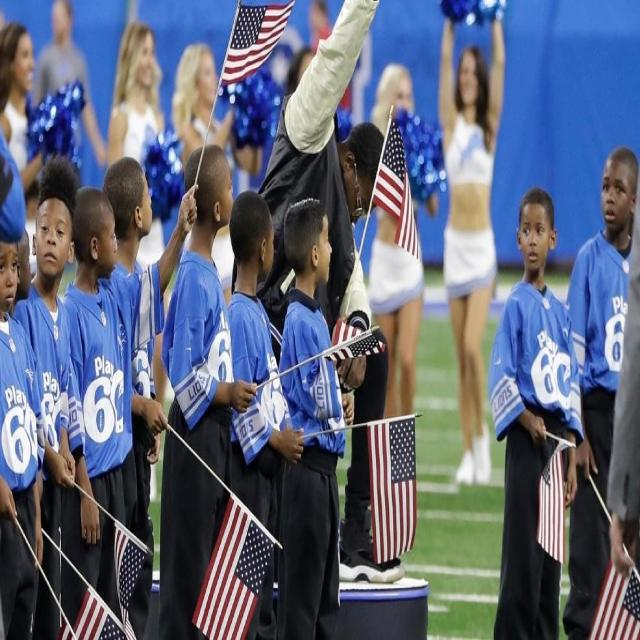body: (229, 0, 406, 588), (59, 182, 208, 639), (154, 137, 264, 639), (489, 181, 584, 639), (432, 0, 512, 490), (562, 142, 640, 640), (226, 189, 308, 639), (273, 195, 348, 639), (102, 156, 170, 640), (19, 146, 78, 640), (170, 41, 264, 306), (369, 60, 438, 421), (0, 215, 42, 640), (0, 17, 87, 221), (105, 15, 168, 274), (606, 160, 640, 598), (33, 0, 110, 172), (0, 48, 30, 302), (302, 1, 354, 133)
